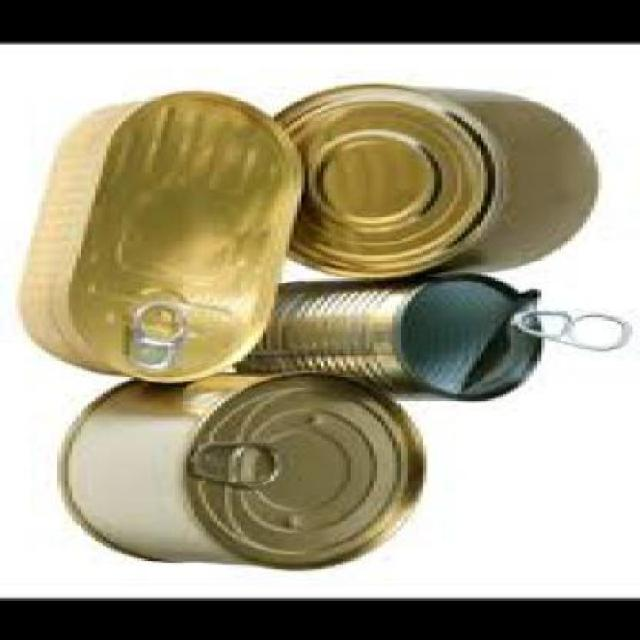METAL: (22, 85, 308, 380), (64, 367, 433, 567), (263, 81, 602, 273), (232, 270, 545, 398), (507, 305, 636, 350)
